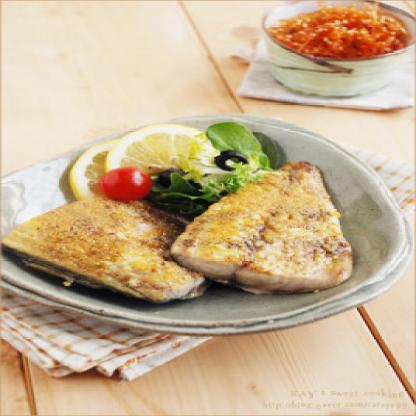Peixe: (163, 166, 362, 288), (27, 207, 233, 297)
